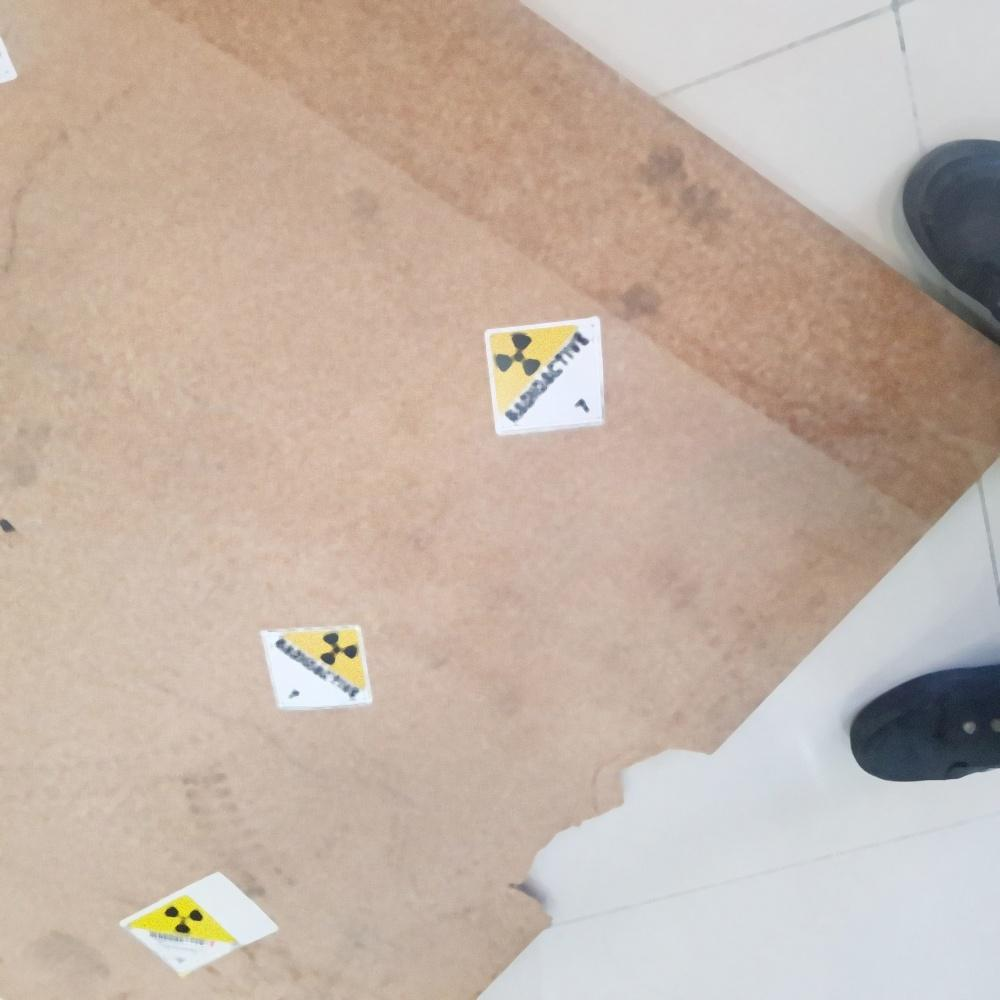radioactive: (482, 318, 606, 436), (260, 624, 375, 709), (122, 893, 243, 971)
